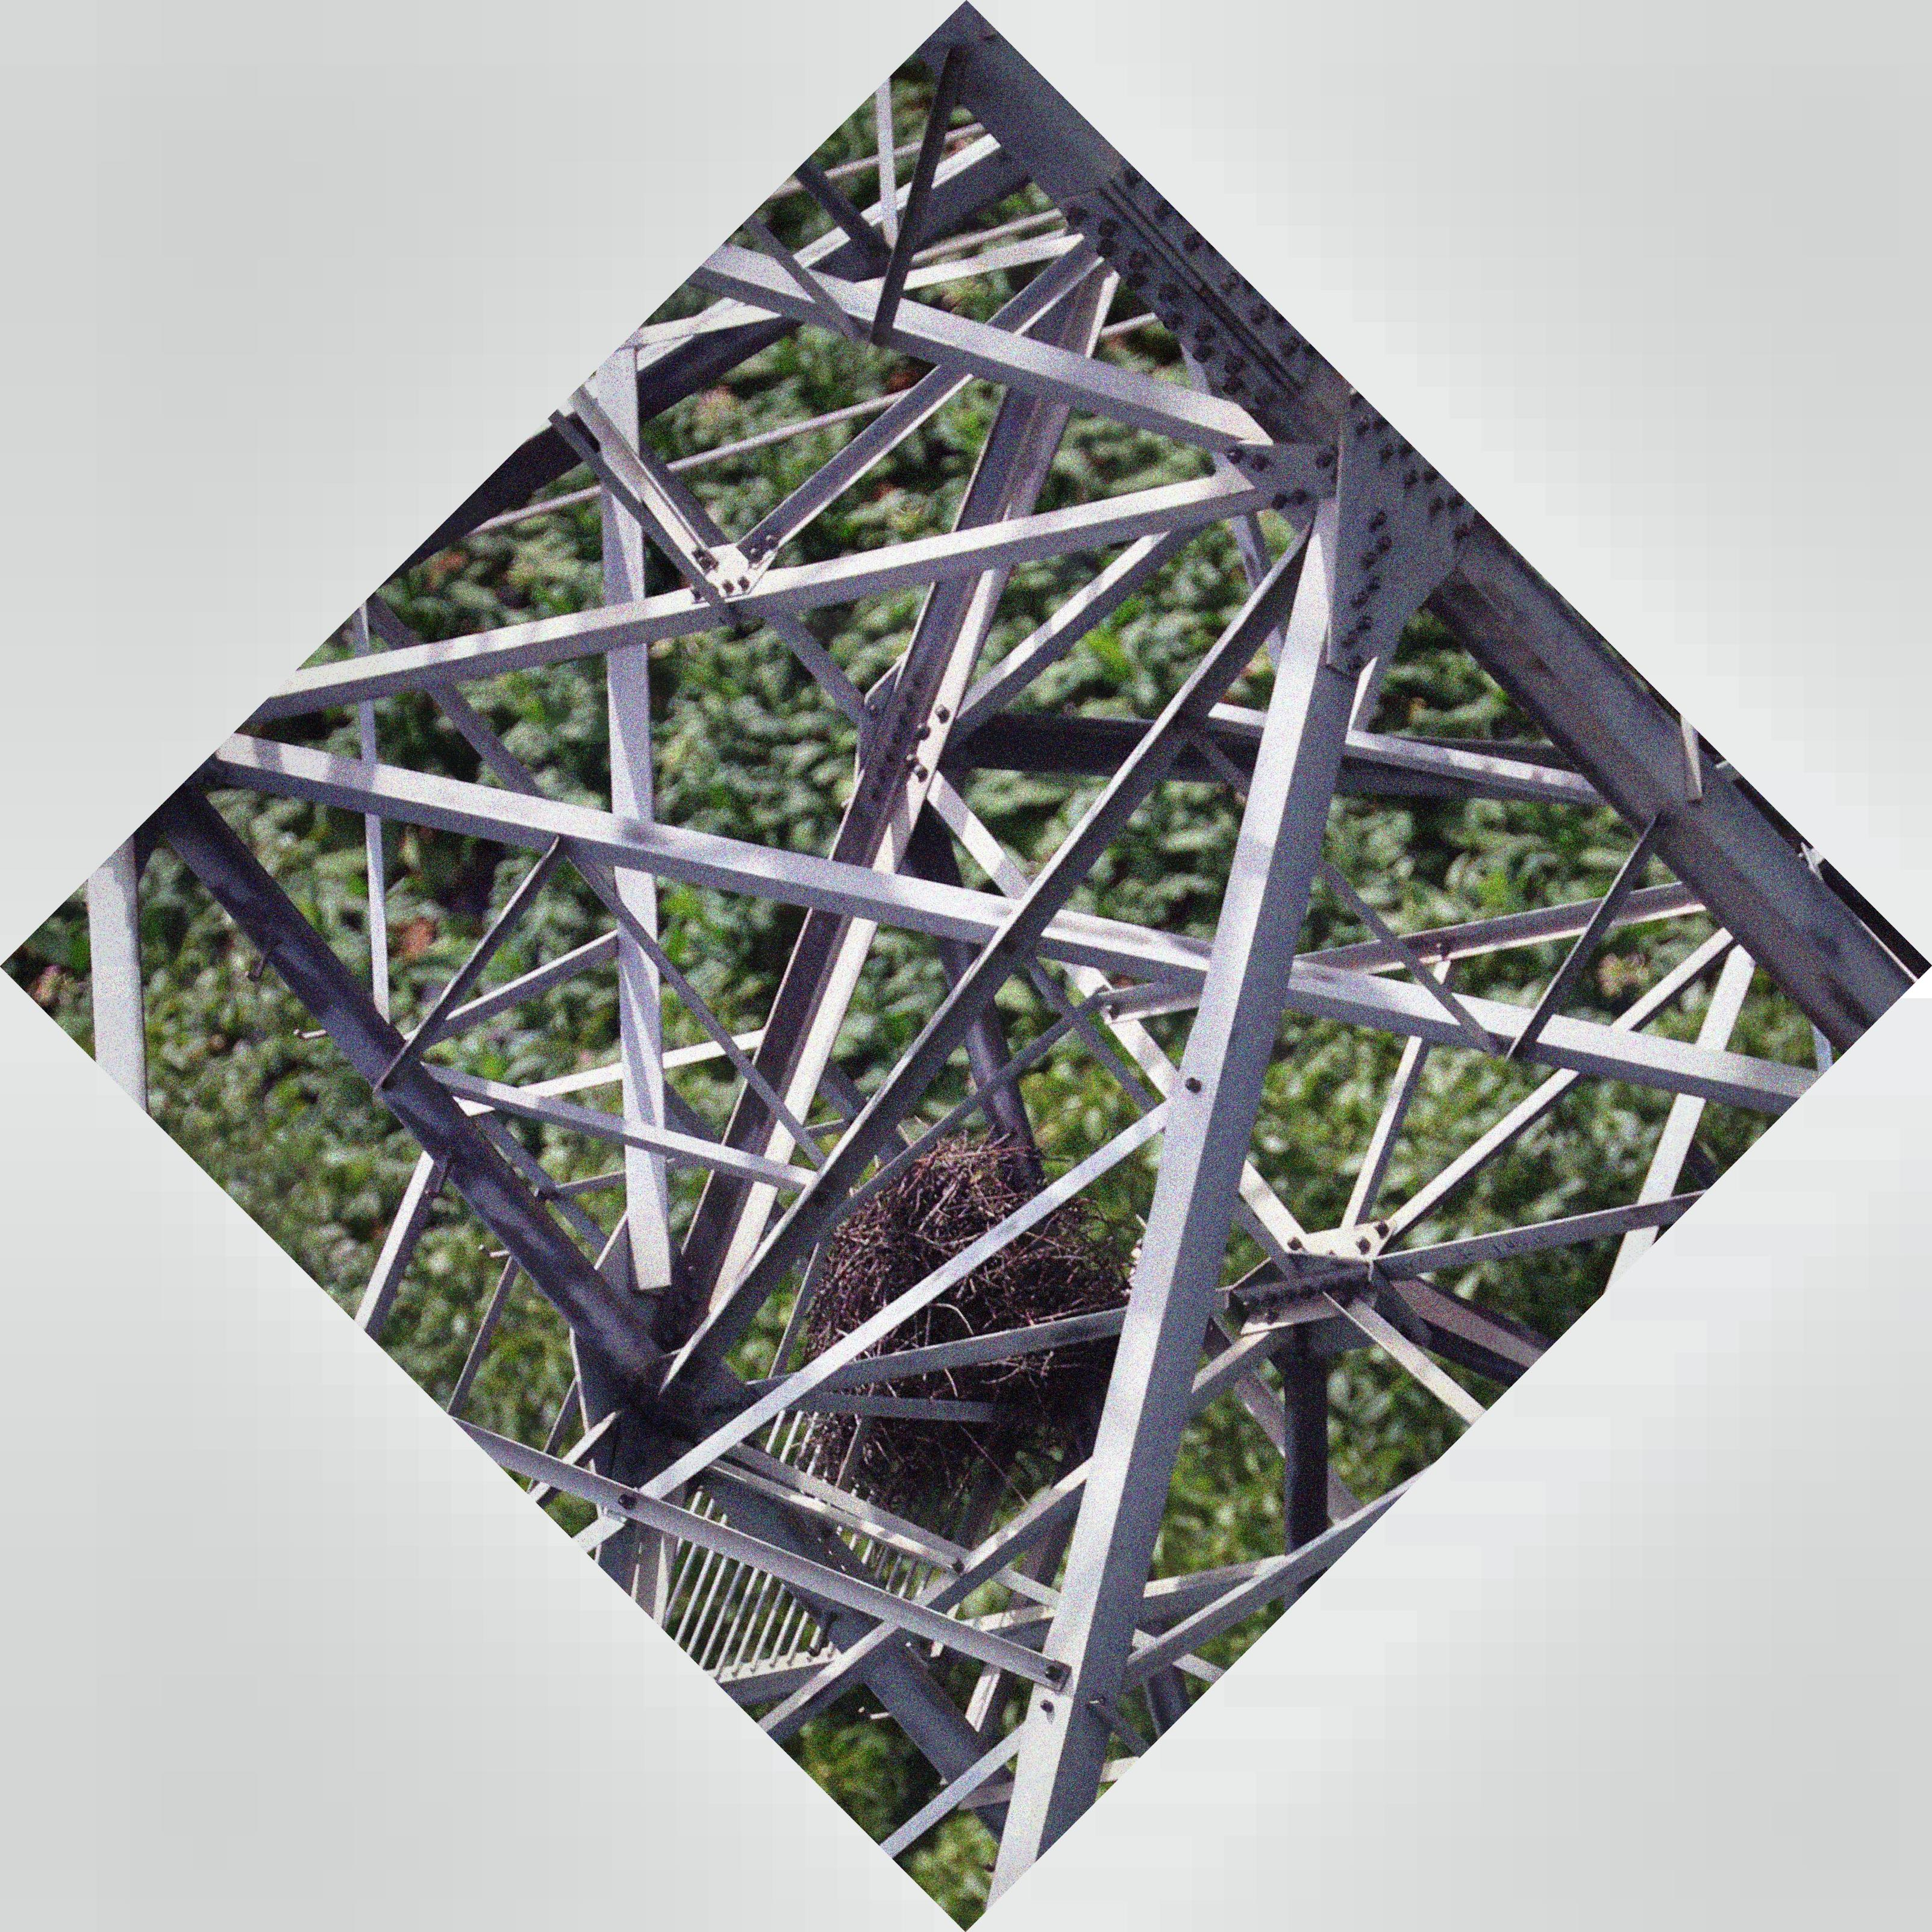niaowo: (766, 1122, 1175, 1509)
